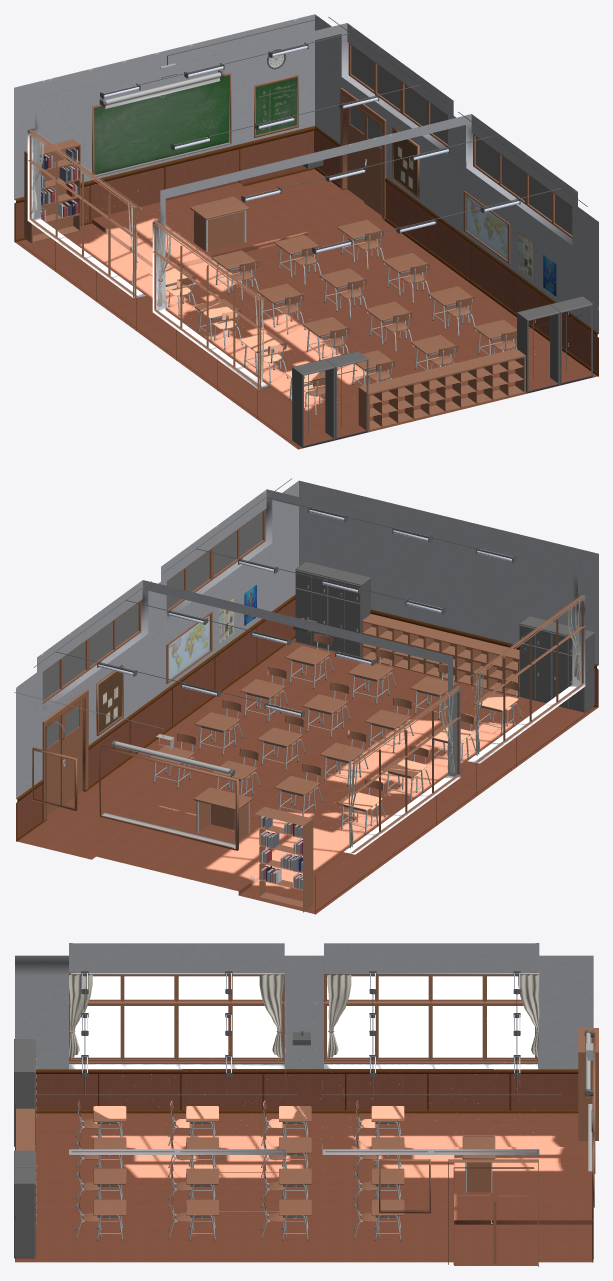
File: classroom (1).glb
The picture shows the model from 3 angles, top to bottom: view 1: azimuth 30°, elevation 25°; view 2: azimuth 150°, elevation 25°; view 3: azimuth 270°, elevation 25°; orthographic projection. The views are drawn at different scales.
Parts seen in each view (by area): view 1: walls, blackboard.001, backShelve, table.001, hallWindows, locker2, windows, door, shelf.001, lights, table2, boards3.001 (+11 smaller); view 2: walls, locker2, table.001, hallWindows, backShelve, windows, door, shelf.001, table2, lights, chair.001, boards3.001 (+10 smaller); view 3: walls, glow, windows, table.001, curtains, locker2, table2, chair.002, wires, chair, shelf.001, lights (+10 smaller).
Boxes of the visible parts, x1,y1,x2,y2 form: walls: (14, 14, 598, 449); blackboard.001: (94, 75, 228, 174); backShelve: (358, 348, 525, 431); table.001: (149, 219, 516, 384); hallWindows: (348, 43, 572, 238); locker2: (292, 296, 592, 447); windows: (28, 129, 262, 390); door: (340, 87, 386, 220); shelf.001: (24, 139, 80, 243); lights: (100, 42, 520, 254); table2: (165, 232, 514, 400); boards3.001: (466, 194, 556, 296); walls: (16, 480, 598, 914); locker2: (295, 561, 594, 712); table.001: (149, 645, 518, 810); hallWindows: (42, 509, 265, 703); backShelve: (361, 614, 519, 696); windows: (351, 595, 585, 852); door: (42, 689, 88, 821); shelf.001: (254, 807, 313, 912); table2: (153, 659, 514, 834); lights: (97, 506, 516, 717); chair.001: (177, 633, 519, 790); boards3.001: (168, 585, 256, 680); walls: (15, 943, 593, 1265); glow: (74, 976, 534, 1057); windows: (69, 972, 538, 1063); table.001: (93, 1106, 404, 1215); curtains: (69, 973, 539, 1058); locker2: (14, 1039, 36, 1258); table2: (96, 1122, 401, 1240); chair.002: (83, 1119, 377, 1222); wires: (33, 989, 594, 1111); chair: (75, 1110, 379, 1239); shelf.001: (578, 1028, 598, 1140); lights: (81, 971, 520, 1077).
Bounding box in the file's own units: 10.47 × 6.36 × 15.84.
Materials: 5 (5 with a texture image).
